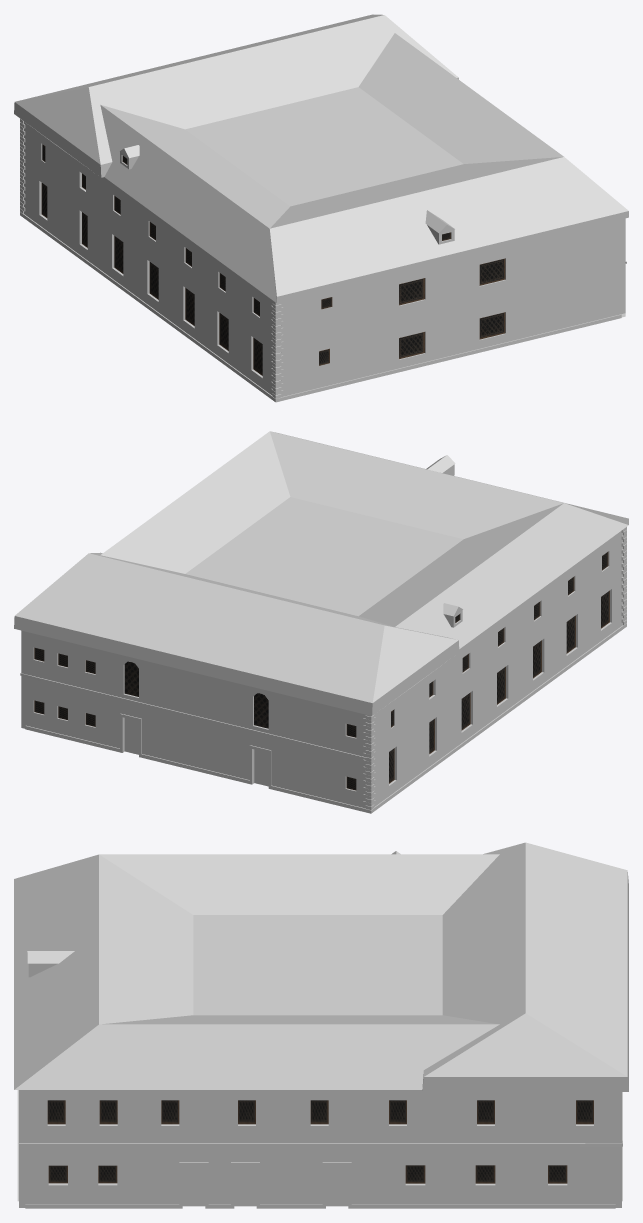
File: FabricaCristalesLabradosEntrefinos.fbx
The picture shows the model from 3 angles, top to bottom: view 1: azimuth 30°, elevation 25°; view 2: azimuth 150°, elevation 25°; view 3: azimuth 270°, elevation 25°; orthographic projection. The views are drawn at different scales.
Parts seen in each view (by area): view 1: SM_FabricaCristalesLabradosEntrefinos.001; view 2: SM_FabricaCristalesLabradosEntrefinos.001; view 3: SM_FabricaCristalesLabradosEntrefinos.001.
Boxes of the visible parts, bbox=[...] form: SM_FabricaCristalesLabradosEntrefinos.001: bbox=[14, 14, 628, 402]; SM_FabricaCristalesLabradosEntrefinos.001: bbox=[14, 431, 628, 813]; SM_FabricaCristalesLabradosEntrefinos.001: bbox=[14, 842, 628, 1208].
Size of the model in its own units: 4497 by 1814 by 5641.
